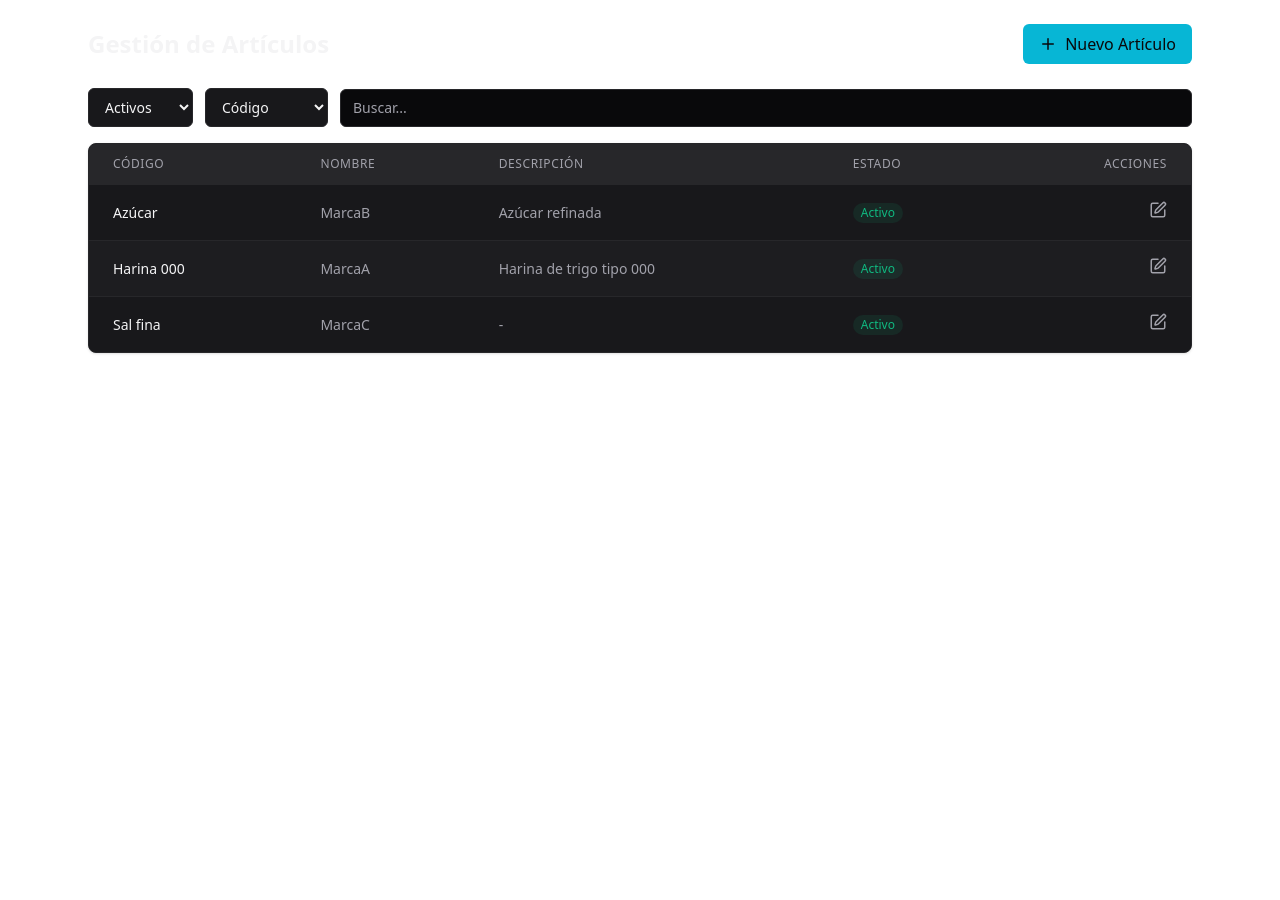
ArticulosPage › clicking "Activar Artículo" sends PUT with activo:true; on success, modal closes
Expected: the text "Harina 000" is shown, 89,240 -> 296,296
Note: Switch to inactivos
Select "Inactivos" in the 1st dropdown at (140,108), box 88,88 -> 193,127
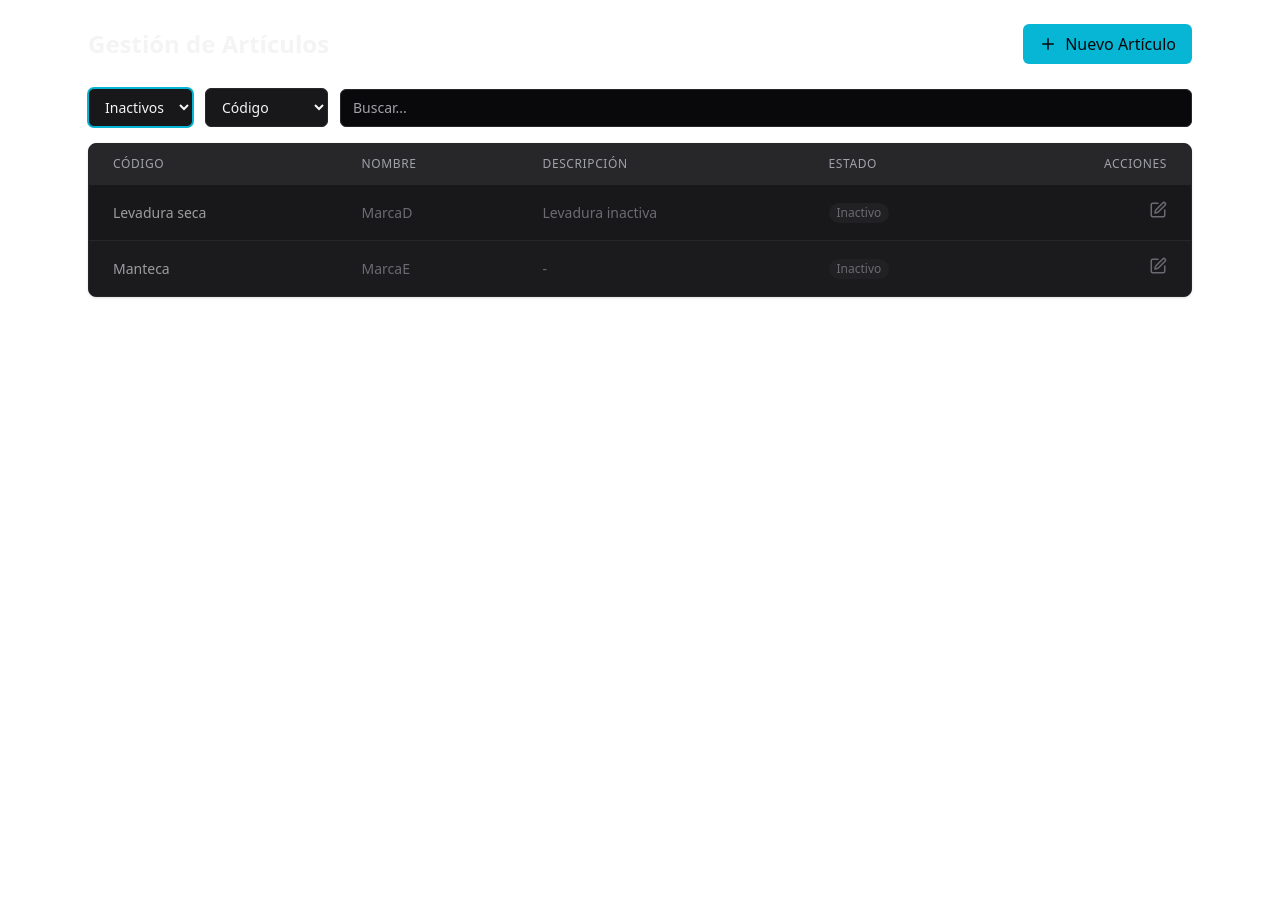
Now the text "Levadura seca" is shown, box 89,184 -> 338,240
Click the button titled "Editar" in the row of "Levadura seca" at (1158,210), box 1149,201 -> 1167,219
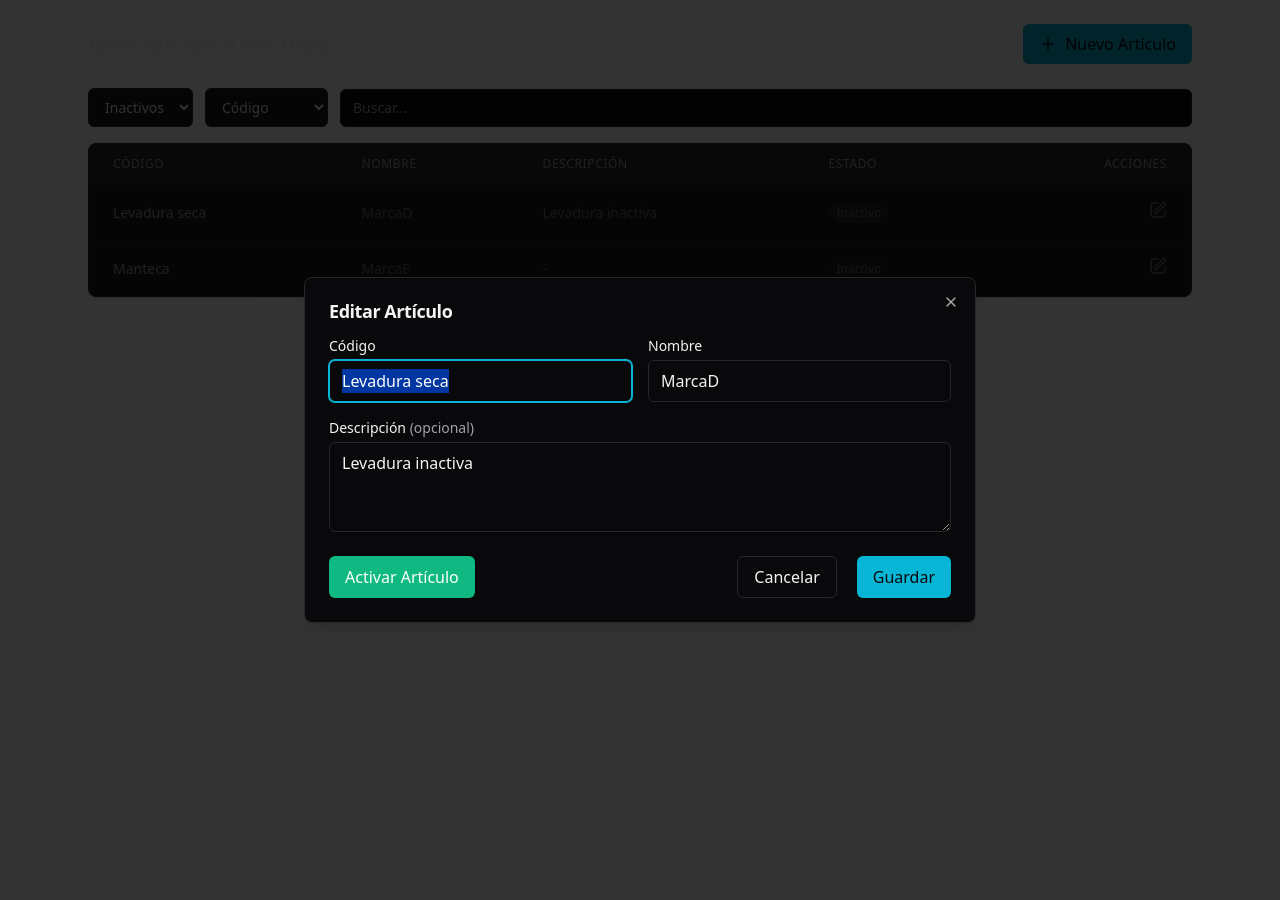
Click the button "Activar Artículo" at (402,577), box 329,556 -> 475,598
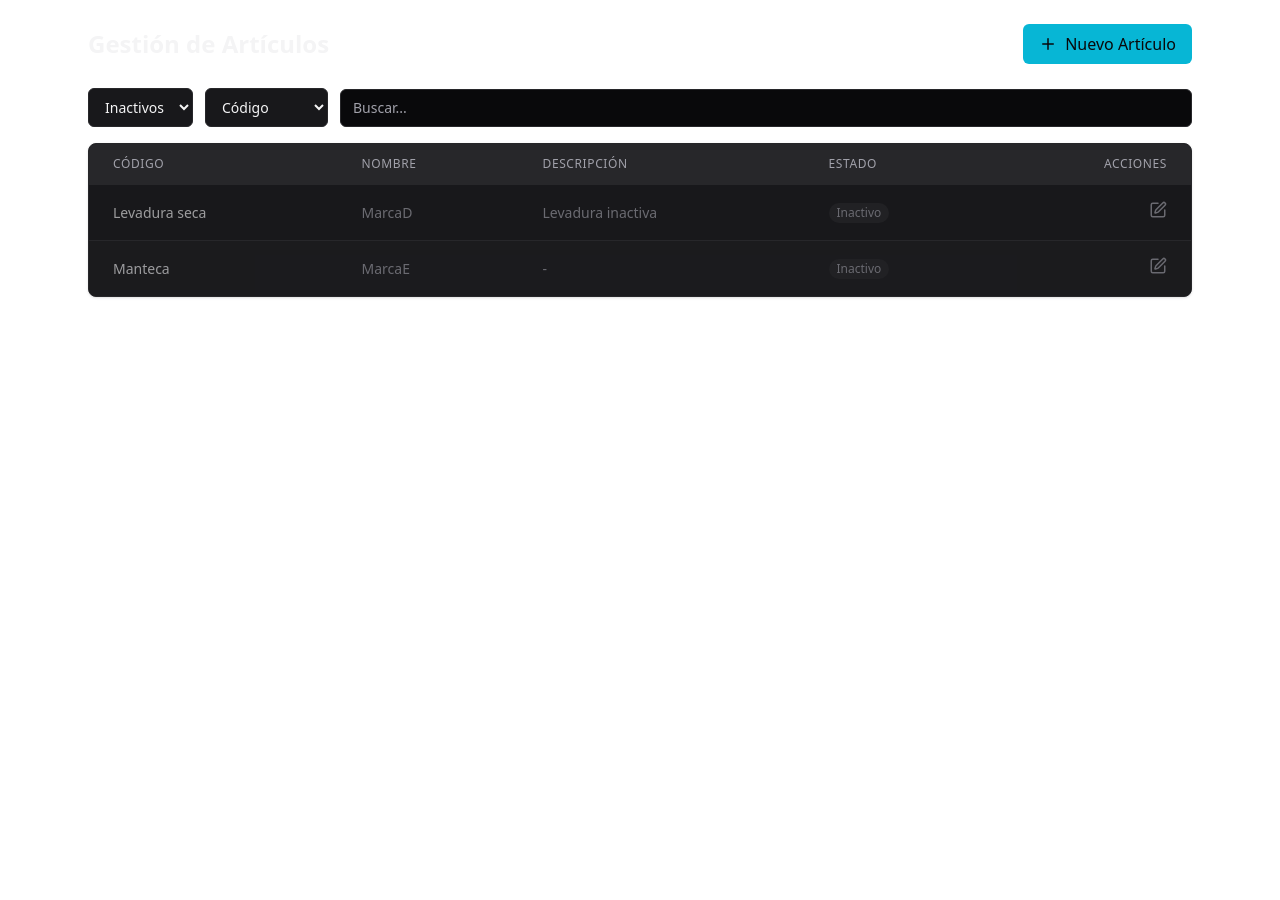
Now the heading "Editar Artículo" is gone
